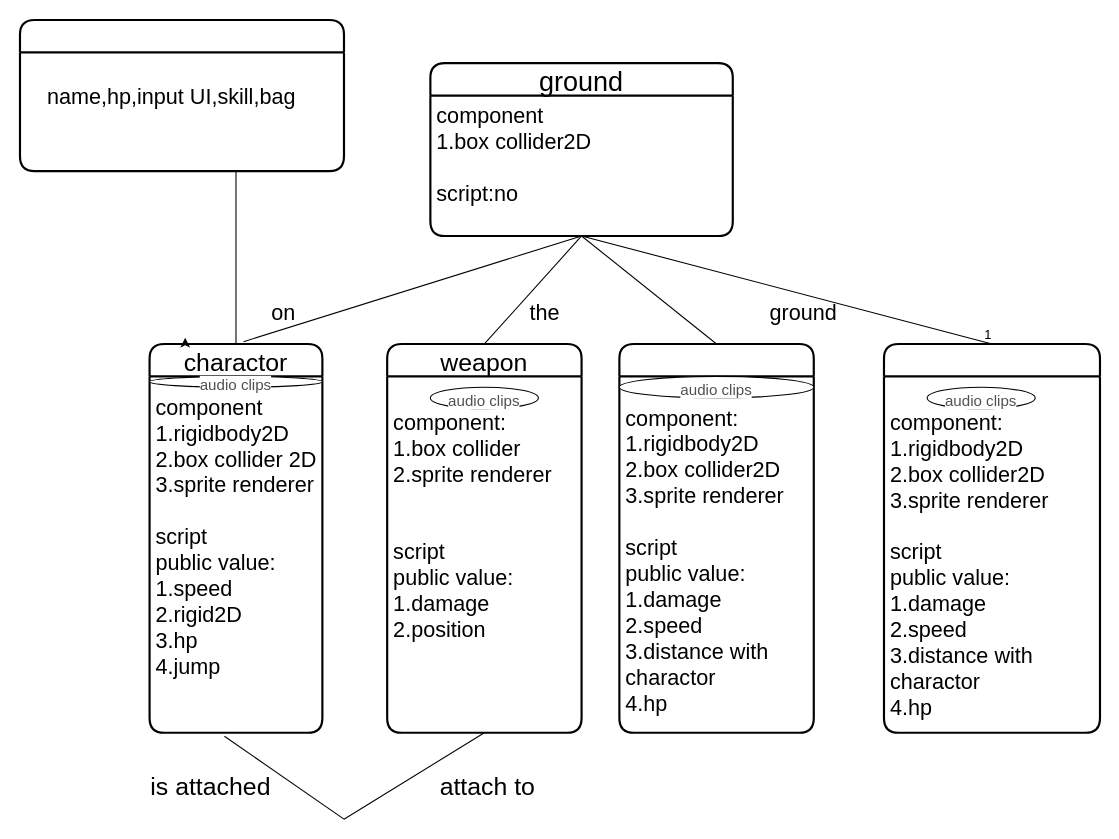
Image size: 1119x839. Some labels were removed from this diagram. The box of each missing label's shape, as (x1, y1, x2, y2) in pixels:
boss: (882, 342, 1101, 733)
monster: (618, 342, 814, 733)
UI: (18, 18, 345, 172)
